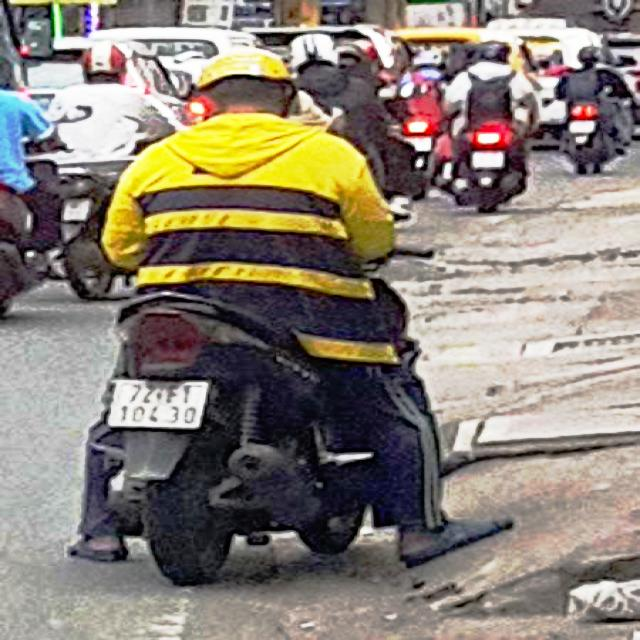license_plate: (104, 375, 213, 432)
